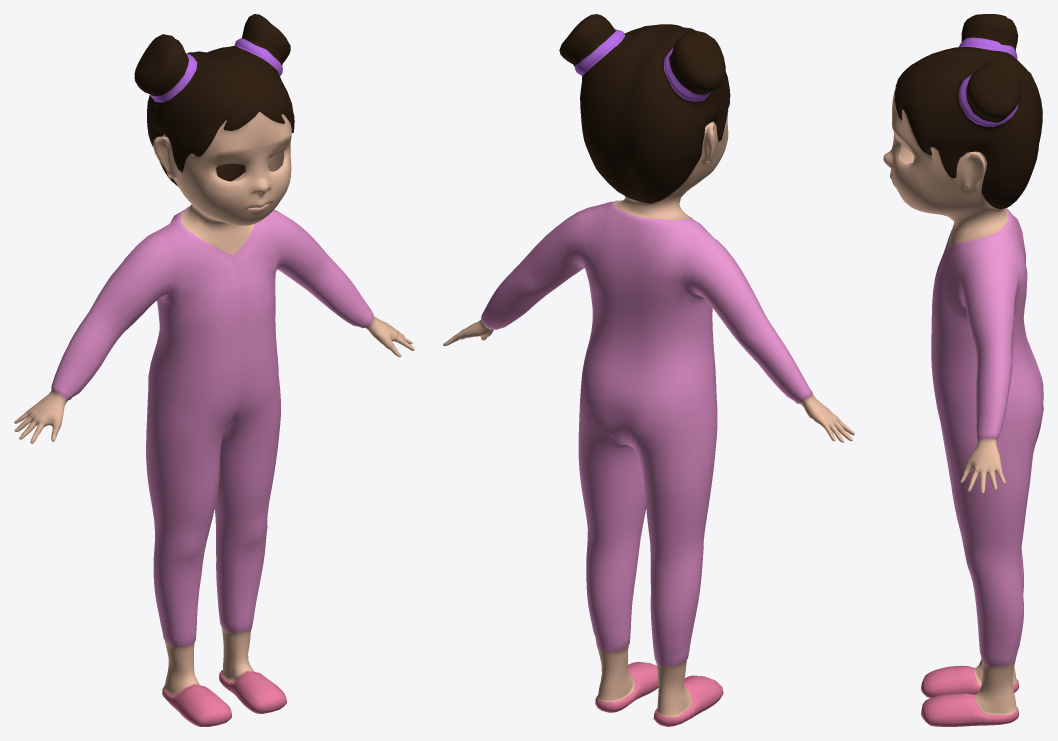
Rendered from lowpoly.fbx.
The picture shows the model from 3 angles, left to right: view 1: azimuth 30°, elevation 25°; view 2: azimuth 150°, elevation 25°; view 3: azimuth 270°, elevation 25°; orthographic projection. The views are drawn at different scales.
Parts seen in each view (by area): view 1: lowpoly; view 2: lowpoly; view 3: lowpoly.
Part boxes in pixels (box(x1,y1,x2,y2)): lowpoly: box(14, 14, 414, 726); lowpoly: box(443, 14, 854, 726); lowpoly: box(883, 14, 1043, 726).
Bounding box in the file's own units: 73.43 × 119 × 25.82.
